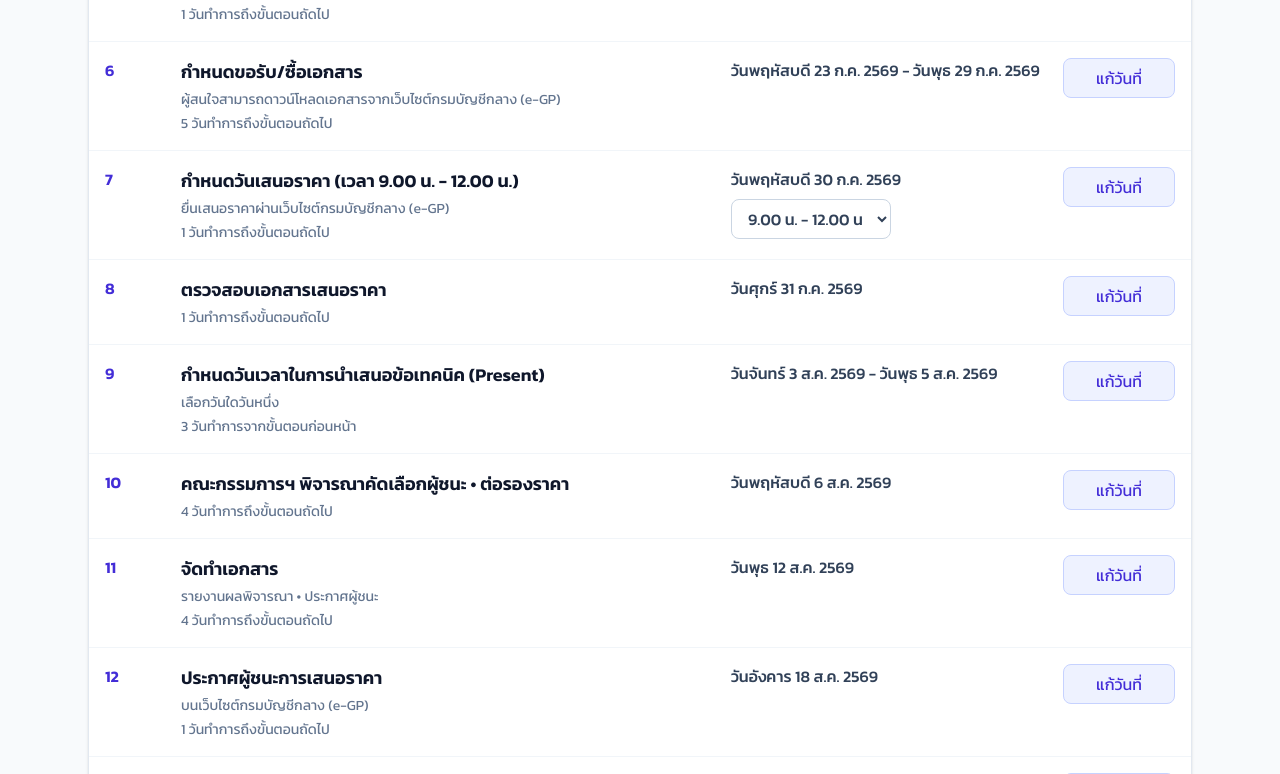
Test: TimelineDetail › explains why a date before the previous milestone cannot be selected before submitting
(page scrolled)
Step 1. Click the button with aria-label "แก้วันที่ ขั้นตอนที่ 9" → point(1119, 381), box [1063,361,1175,401]
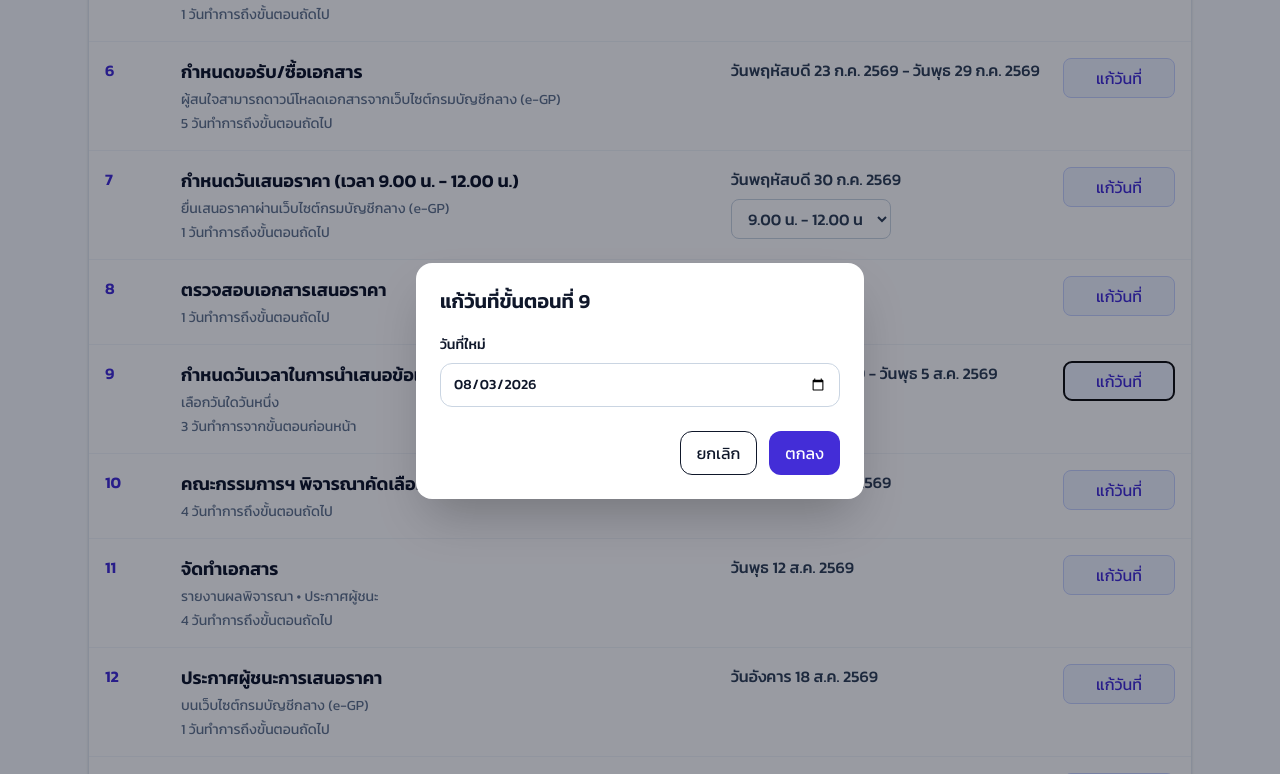
Step 2. Type "2026-07-30" into the date field labelled "วันที่ใหม่" → point(640, 385), box [440,363,840,407]
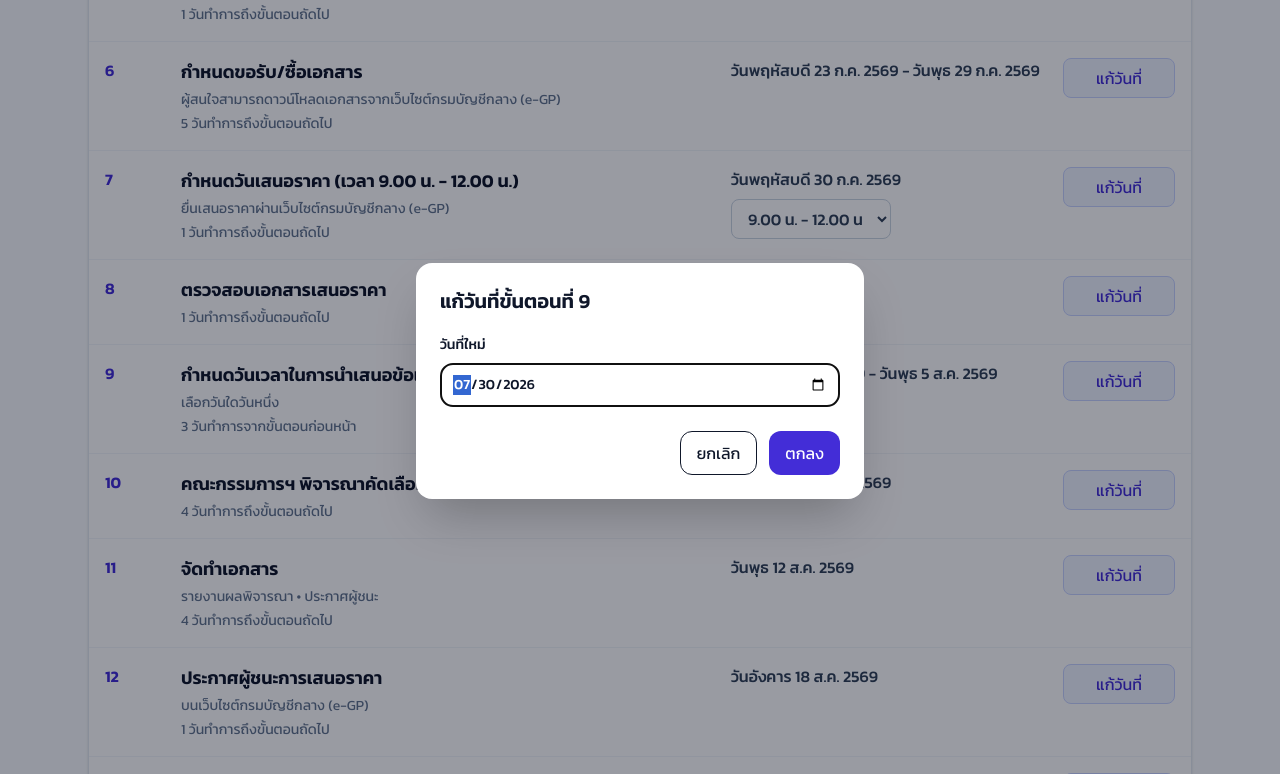
Step 3. Click the button "ตกลง" → point(805, 453), box [769,431,840,475]
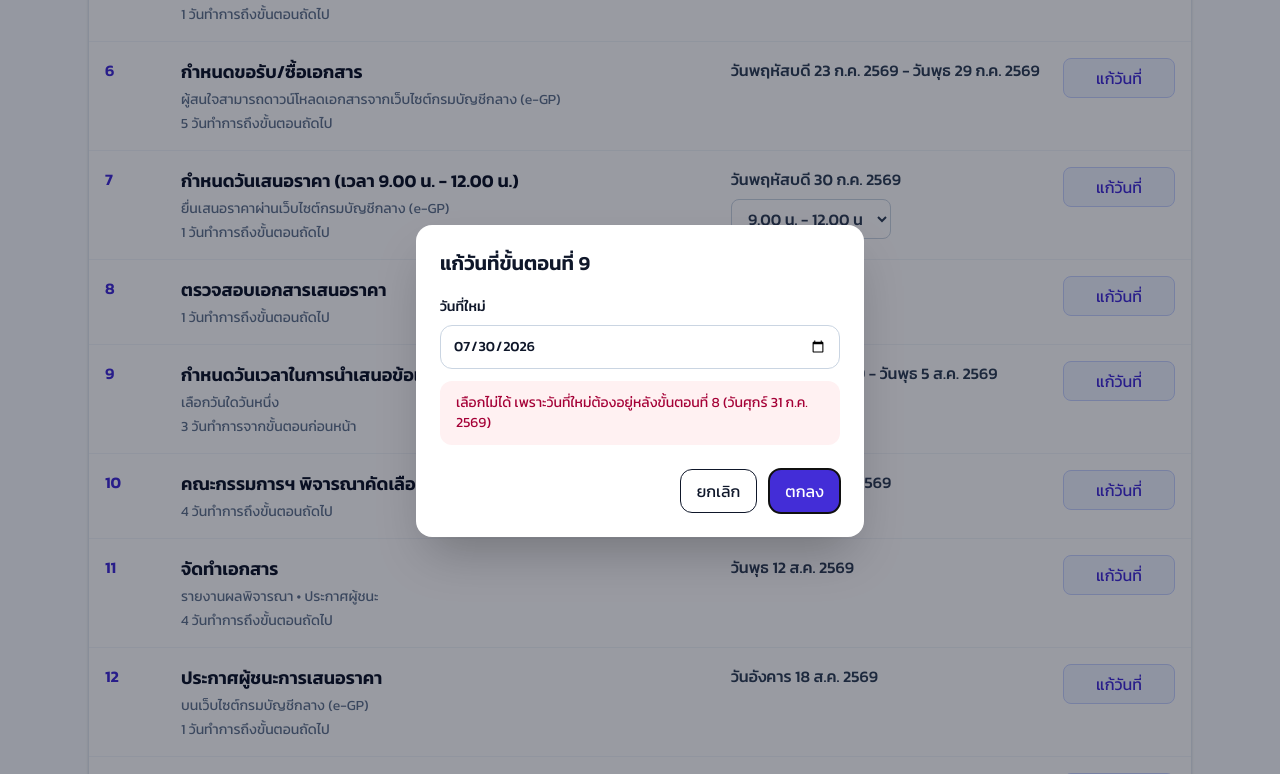
Check: the message shows "เลือกไม่ได้ เพราะวันที่ใหม่ต้องอยู่หลังขั้นตอนที่ 8", box [456,392,808,433]
Check: the message shows "วันศุกร์ 31 ก.ค. 2569", box [456,392,808,433]
